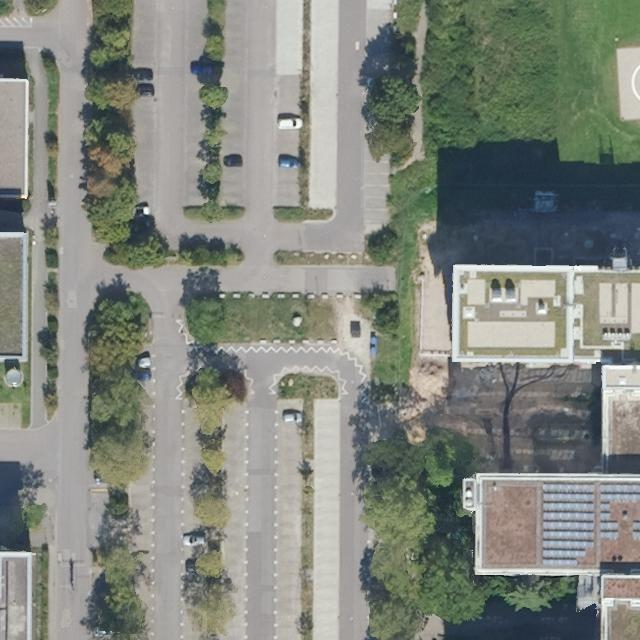PV: (542, 478, 595, 566), (597, 481, 639, 542), (632, 518, 639, 541)
